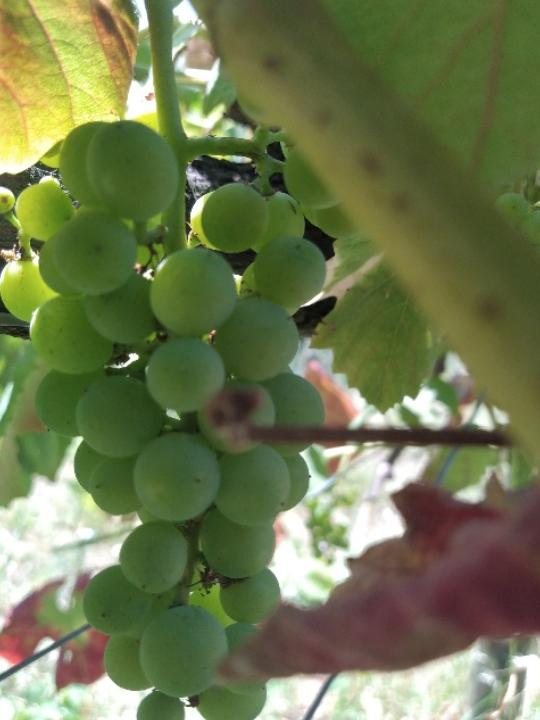grape: (0, 120, 327, 720)
